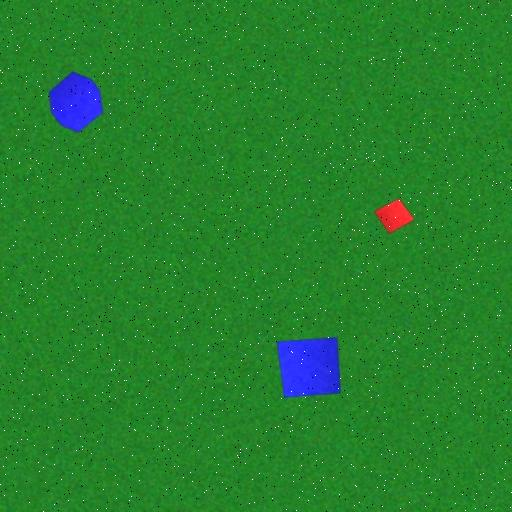BLUE_SQUARE: (276, 336, 342, 398)
RED_SQUARE: (373, 198, 415, 236)
